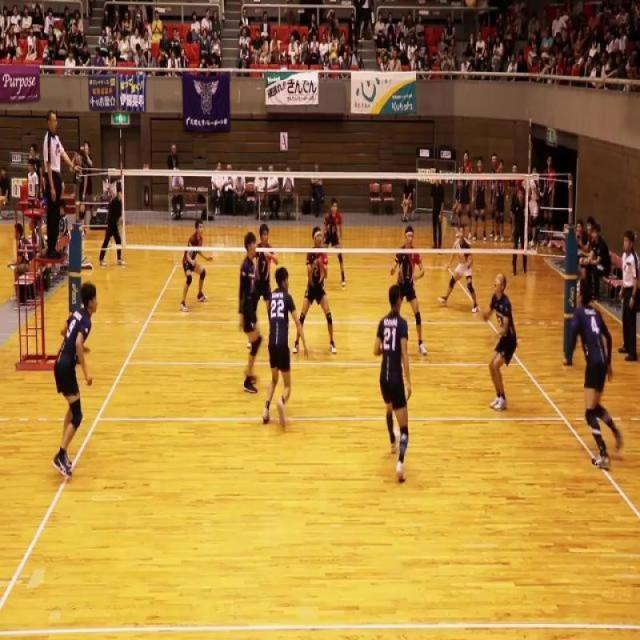volleyball: (464, 0, 476, 8)
